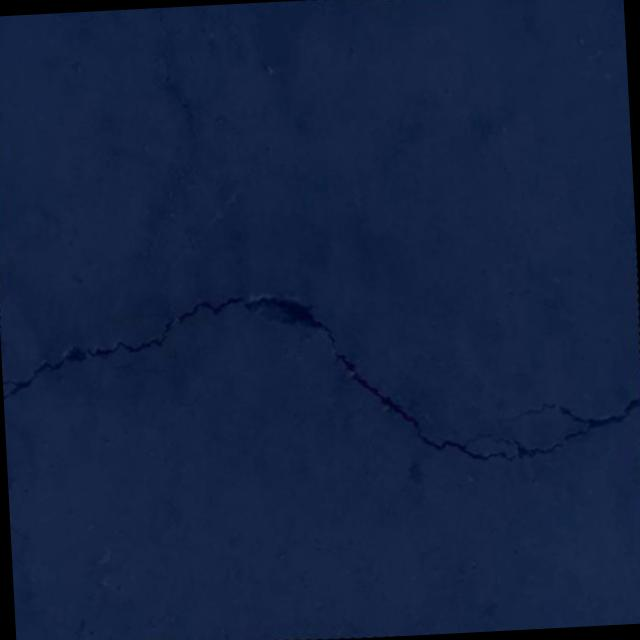crack: (0, 232, 640, 491), (157, 6, 206, 216), (184, 219, 196, 254)
